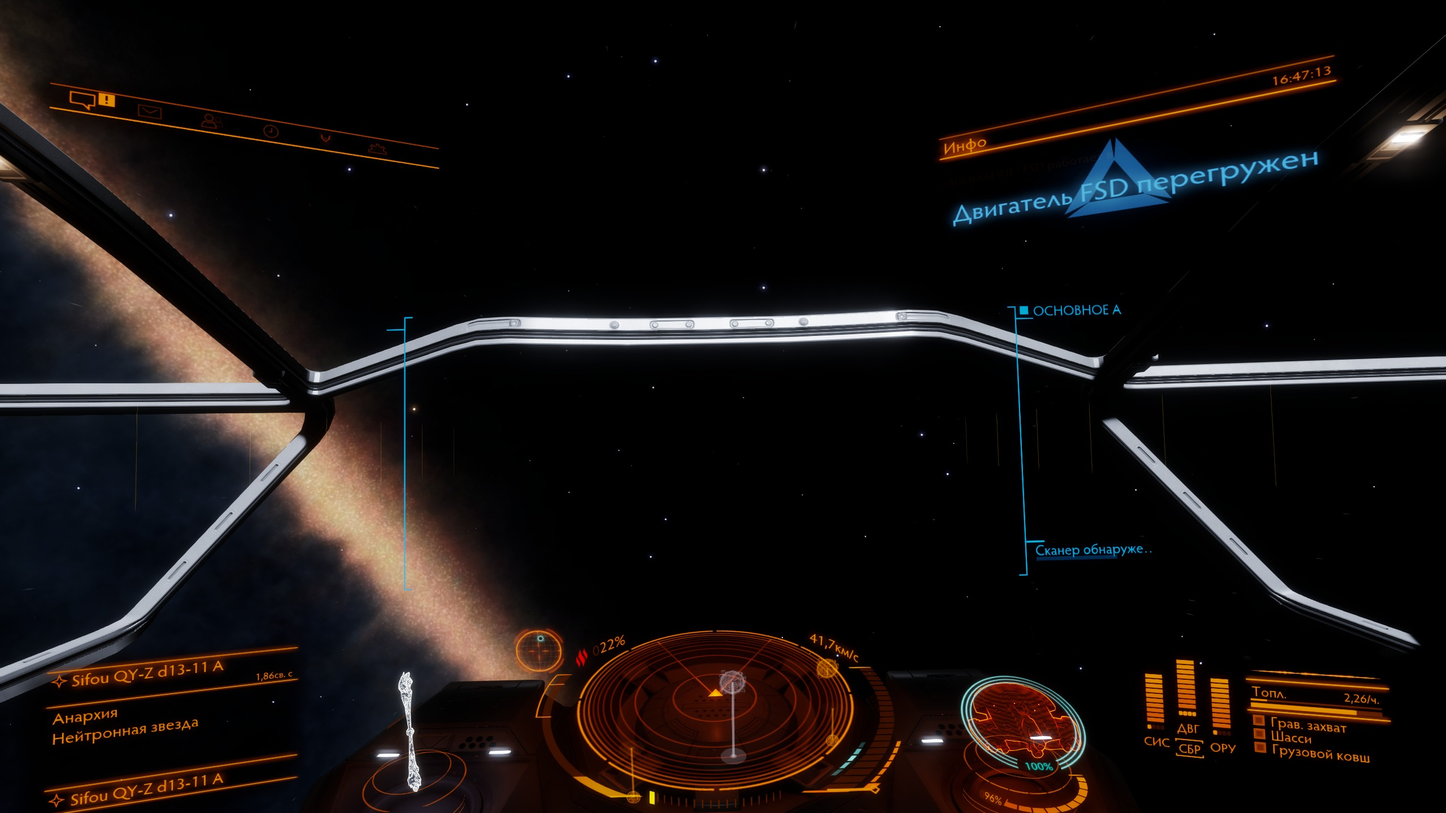jetcone: (124, 438, 304, 618), (1106, 422, 1288, 591)
